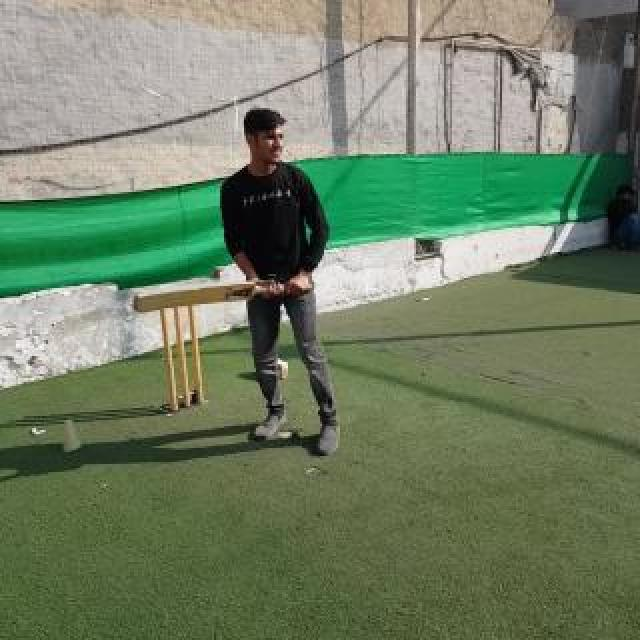bat: (134, 280, 312, 312)
